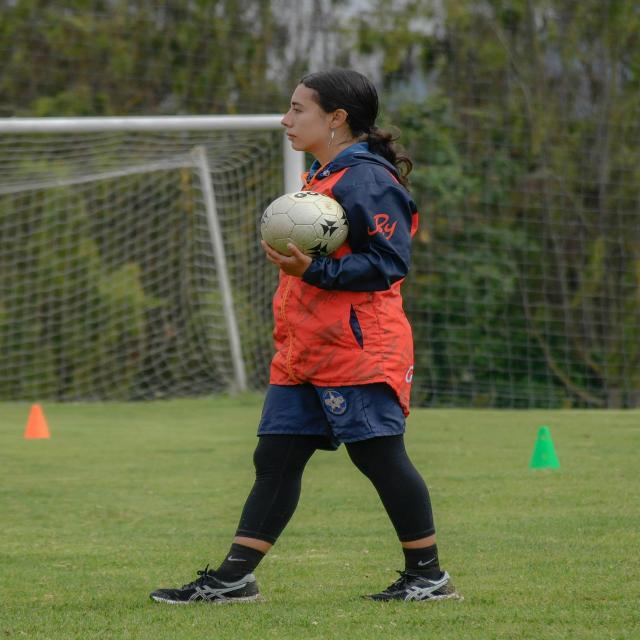Ball: (261, 191, 349, 258)
